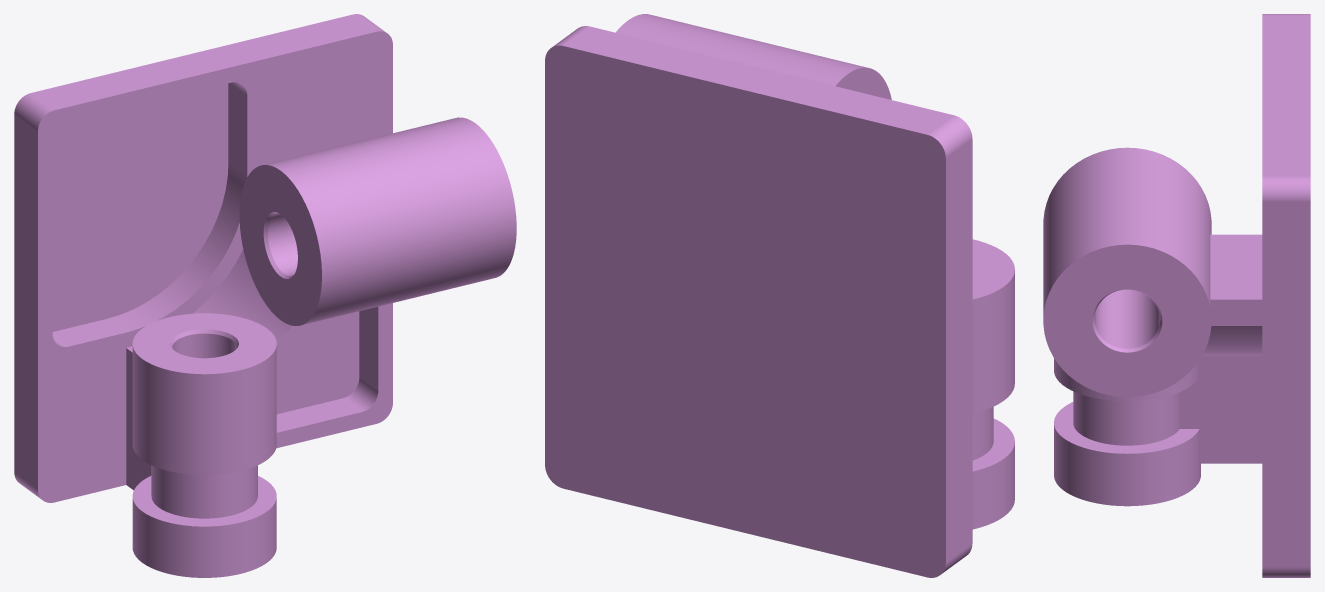
File: CSWPSampleExam.glb
3 renders of one model, left to right at view 1: azimuth 30°, elevation 25°; view 2: azimuth 150°, elevation 25°; view 3: azimuth 270°, elevation 25°, orthographic. The views are drawn at different scales.
Parts seen in each view (by area): view 1: Part 1; view 2: Part 1; view 3: Part 1.
Boxes of the visible parts, x1,y1,x2,y2 form: Part 1: [14, 14, 516, 577]; Part 1: [545, 14, 1014, 577]; Part 1: [1043, 14, 1310, 577].
Bounding box in the file's own units: 0.227 × 0.239 × 0.1386.
